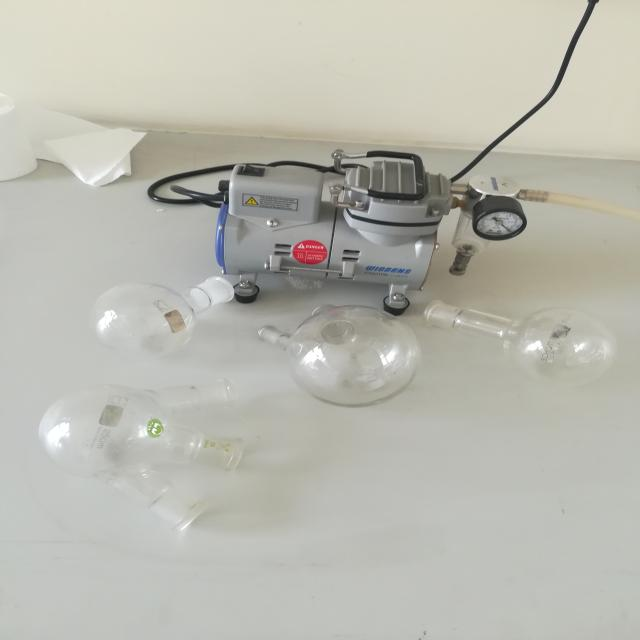Round_Bottom_Flask_Borosilicate_Glass_1_Neck: (404, 261, 640, 391), (61, 228, 252, 365)
Round_Bottom_Flask_Borosilicate_Glass_2_Neck: (239, 276, 427, 413)
Round_Bottom_Flask_Borosilicate_Glass_3_Neck: (26, 368, 289, 554)
